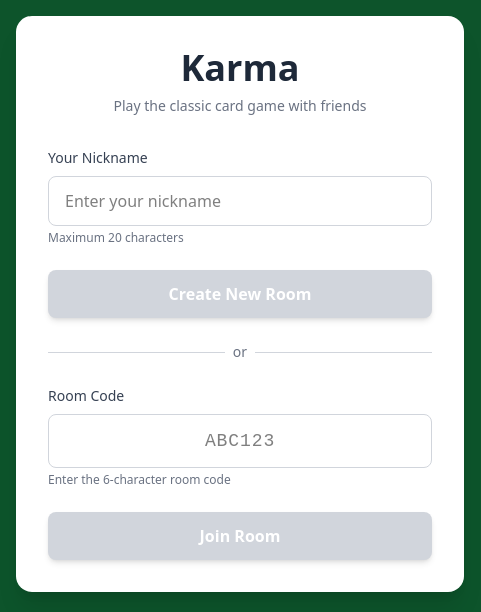
Test case: Landing.vue › Create room button › enables Create button when nickname provided and connected
Type "Alice" into the field with id "nickname" at {"x": 240, "y": 201}, box [48, 176, 432, 226]
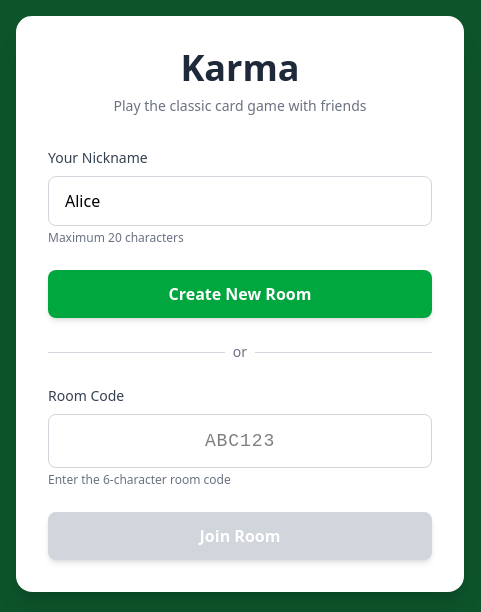
Now the button "Create New Room" is enabled, box [48, 270, 432, 318]
